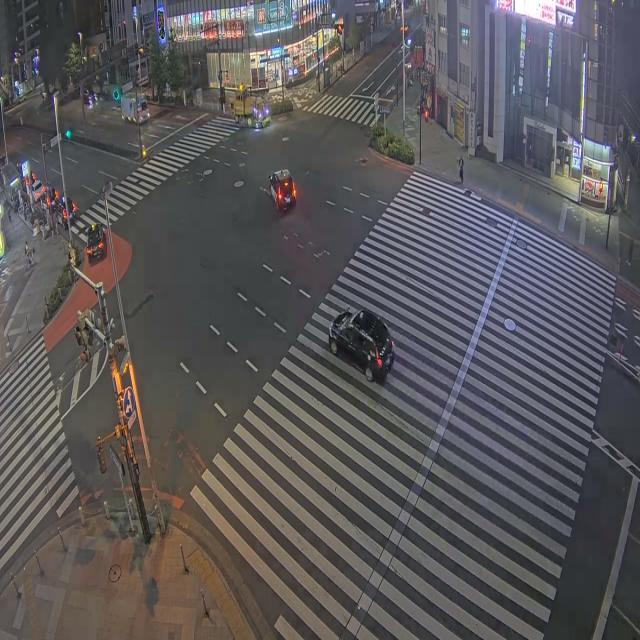car: (329, 310, 394, 381), (270, 169, 296, 210), (86, 224, 106, 262), (54, 197, 77, 228), (32, 180, 46, 201)
truck: (121, 94, 149, 123)
